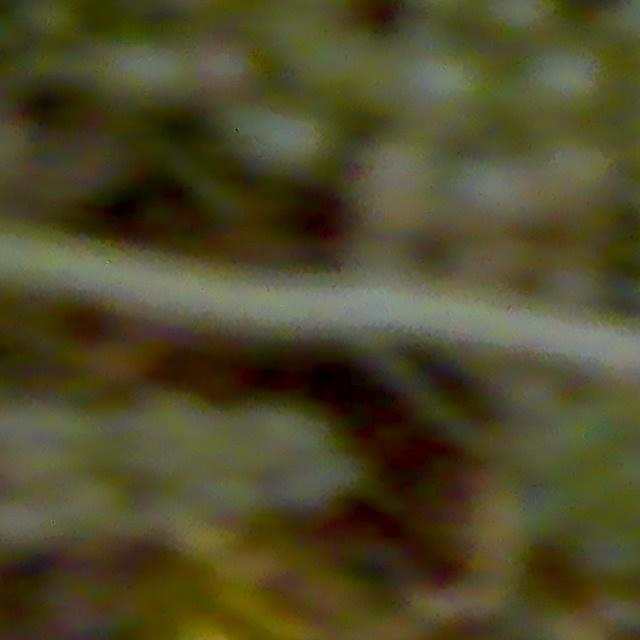SeaGrape: (352, 129, 450, 238), (392, 37, 497, 135), (526, 33, 618, 121), (245, 100, 341, 184), (20, 0, 83, 50)
